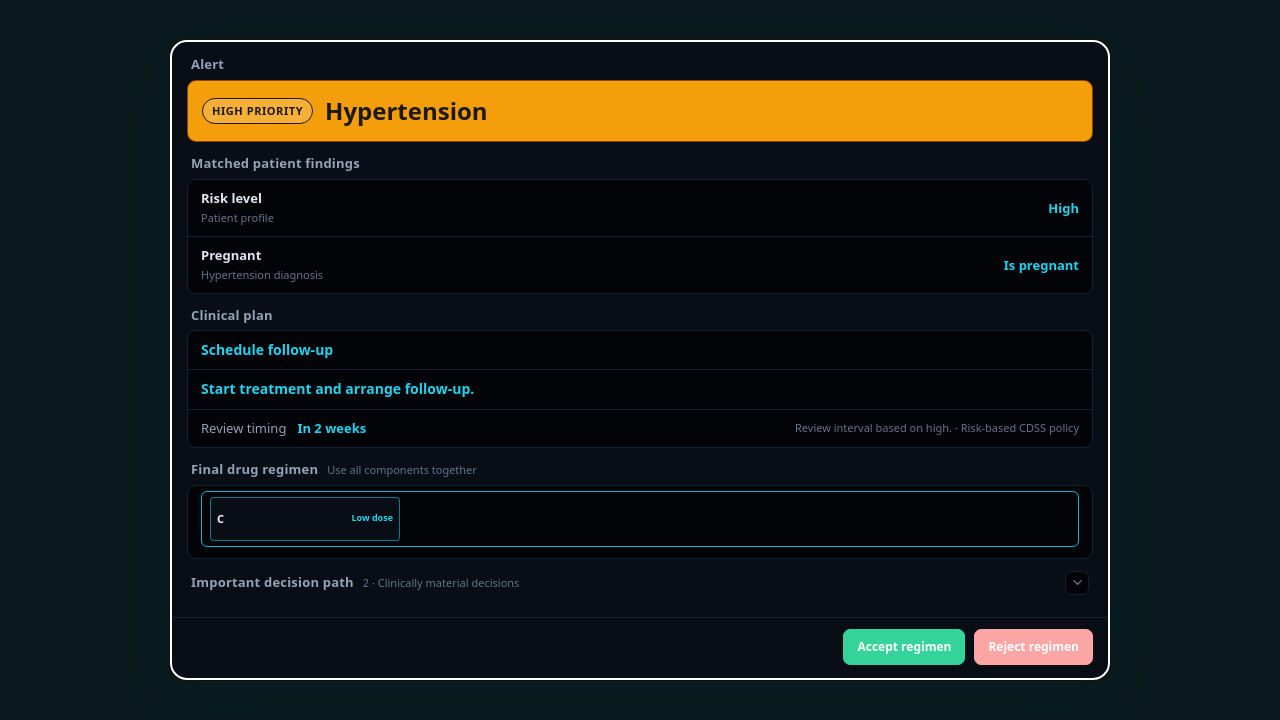
it: TraversalResultModal › keeps the final row at group level and filters the popup by explicit subgroup
Expected: the text "C" is shown, [217,511,224,526]
Expected: the text "Low dose" is shown, [351,513,393,524]
Click the button with class "cds-regimen-component" at (305, 519), box [210,497,400,541]
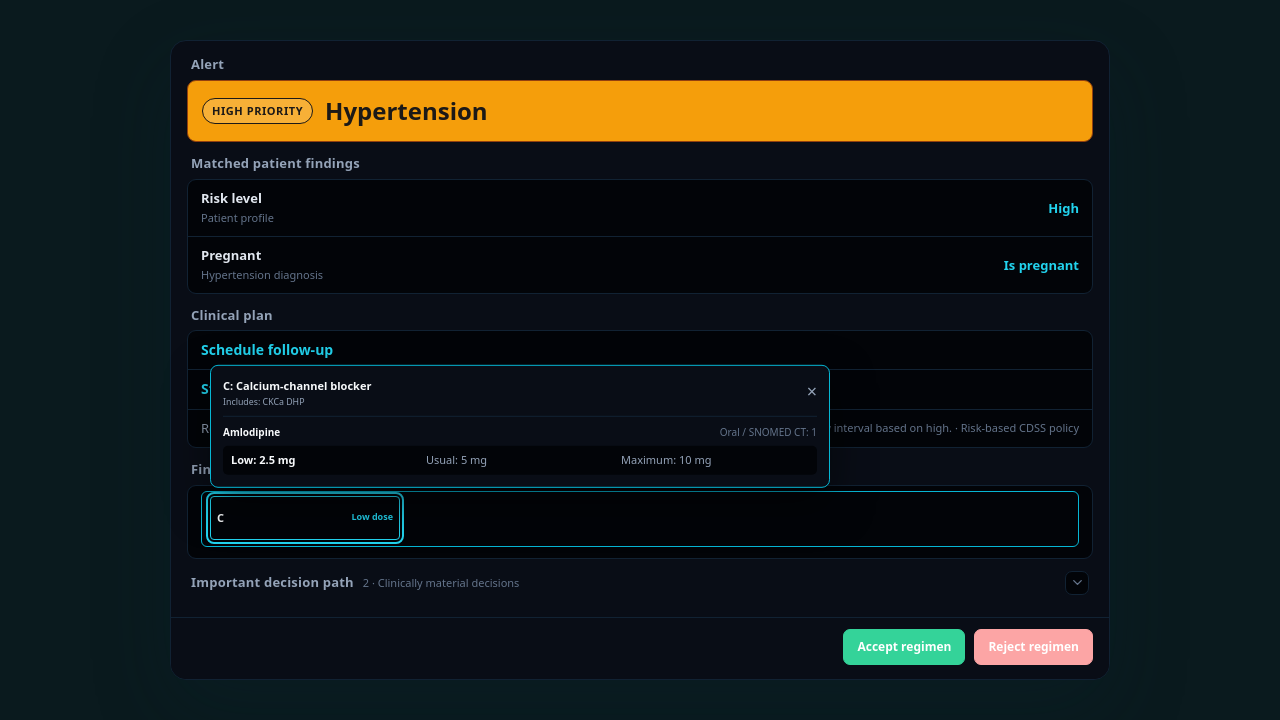
Now the text "Amlodipine" is shown, box [223,425,280,440]
